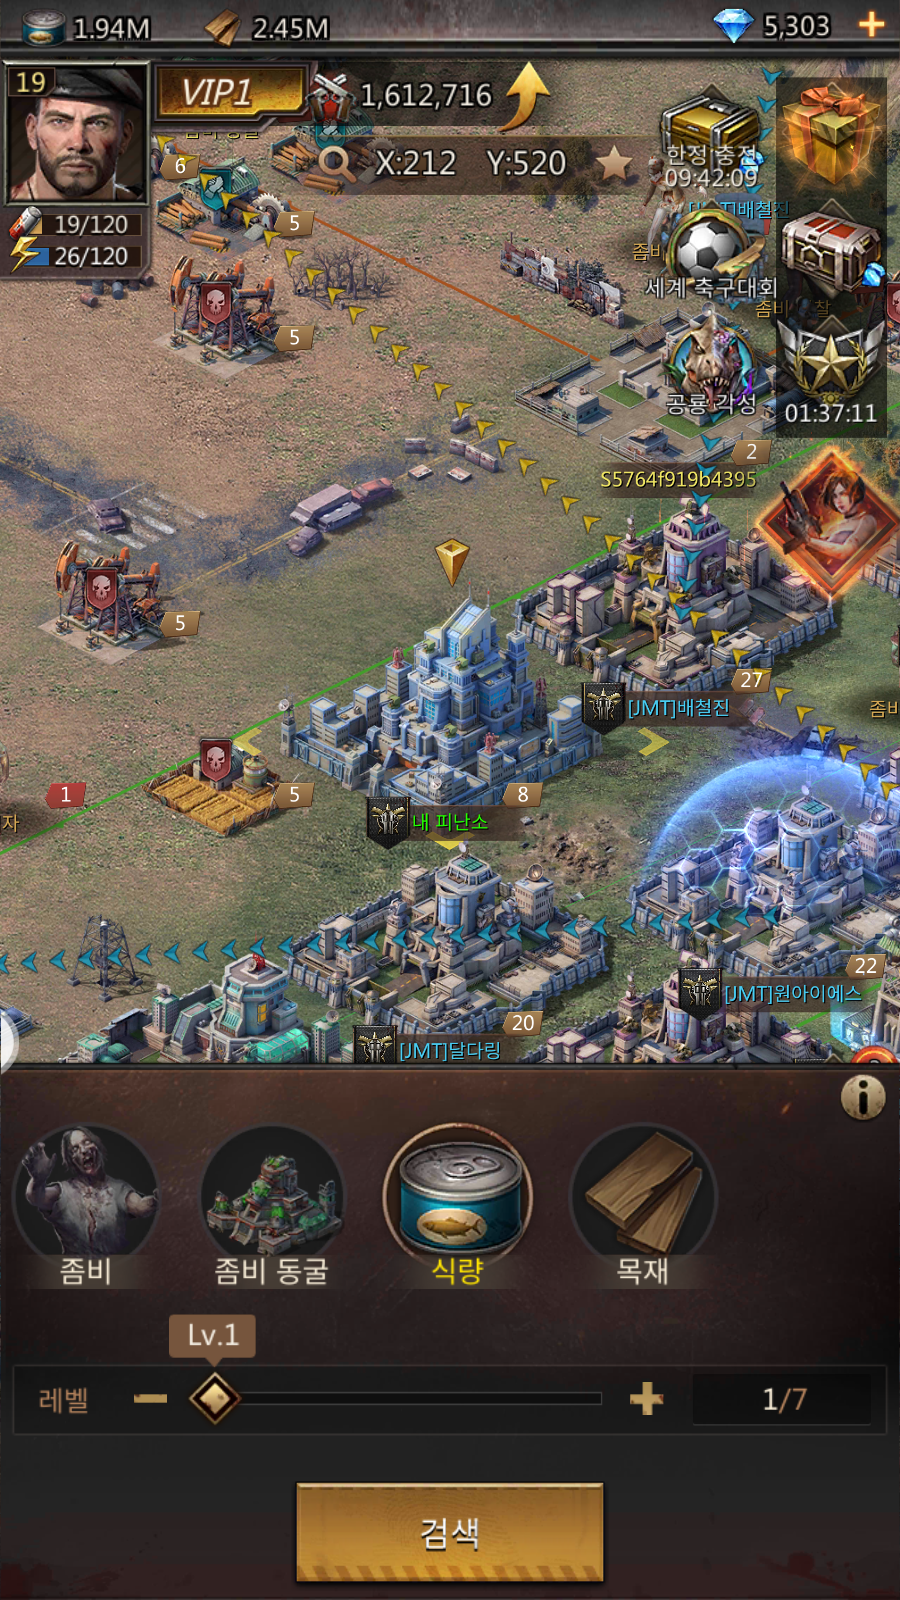rss_food_in_panel: (384, 1119, 536, 1290)
rss_lv1: (170, 1312, 254, 1357)
rss_minus_in_panel: (127, 1373, 173, 1420)
rss_plus_in_panel: (620, 1371, 673, 1422)
rss_search_in_panel: (297, 1486, 605, 1576)
rss_wood_in_panel: (573, 1125, 719, 1291)
